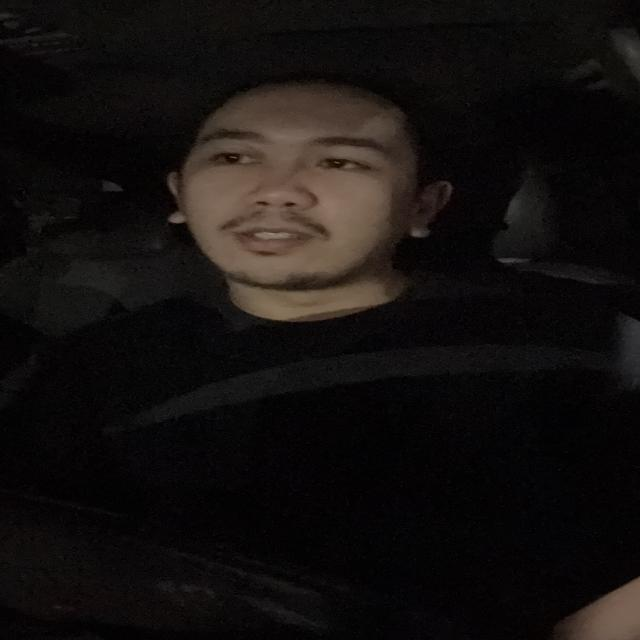open: (304, 136, 402, 184), (194, 126, 266, 173)
